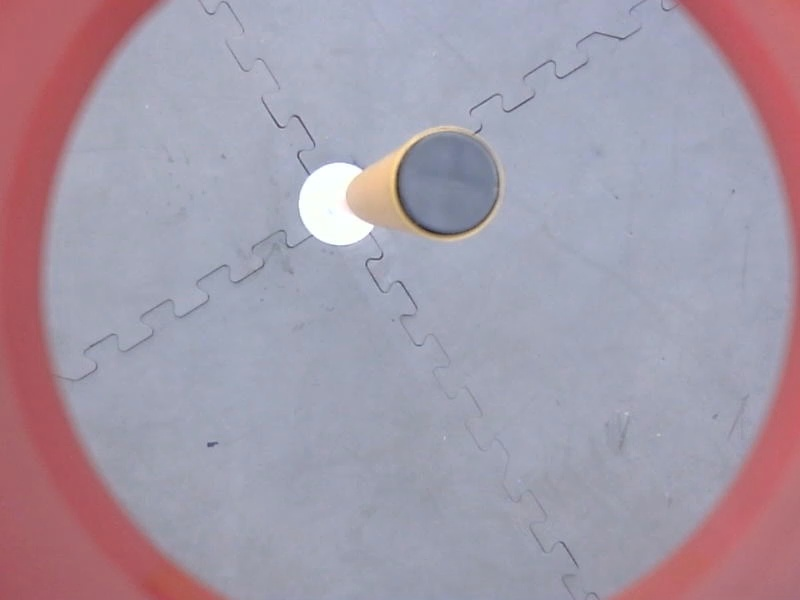tip: (390, 121, 511, 247)
